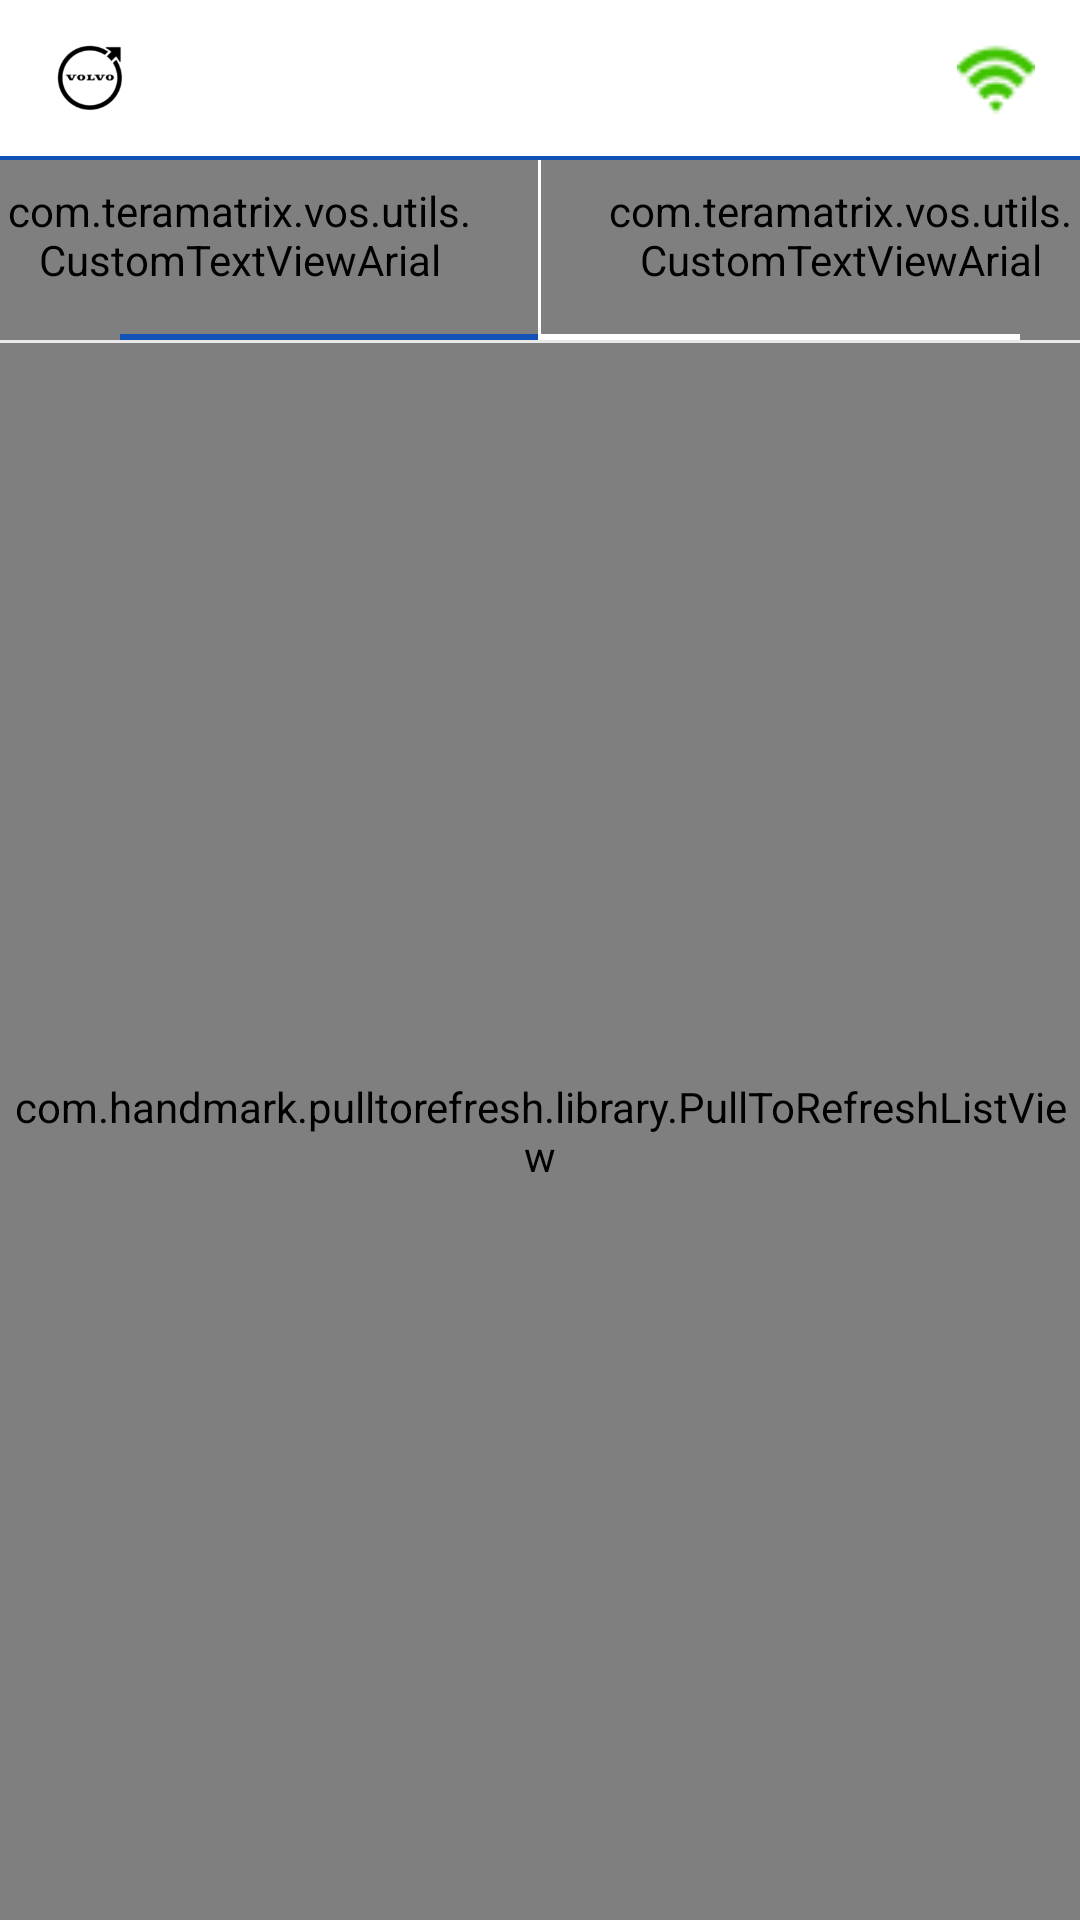

Named icons in this screenshot (1080 × 1920) and their centers, point (x, y):
wifi enalbed: point (996, 79)
